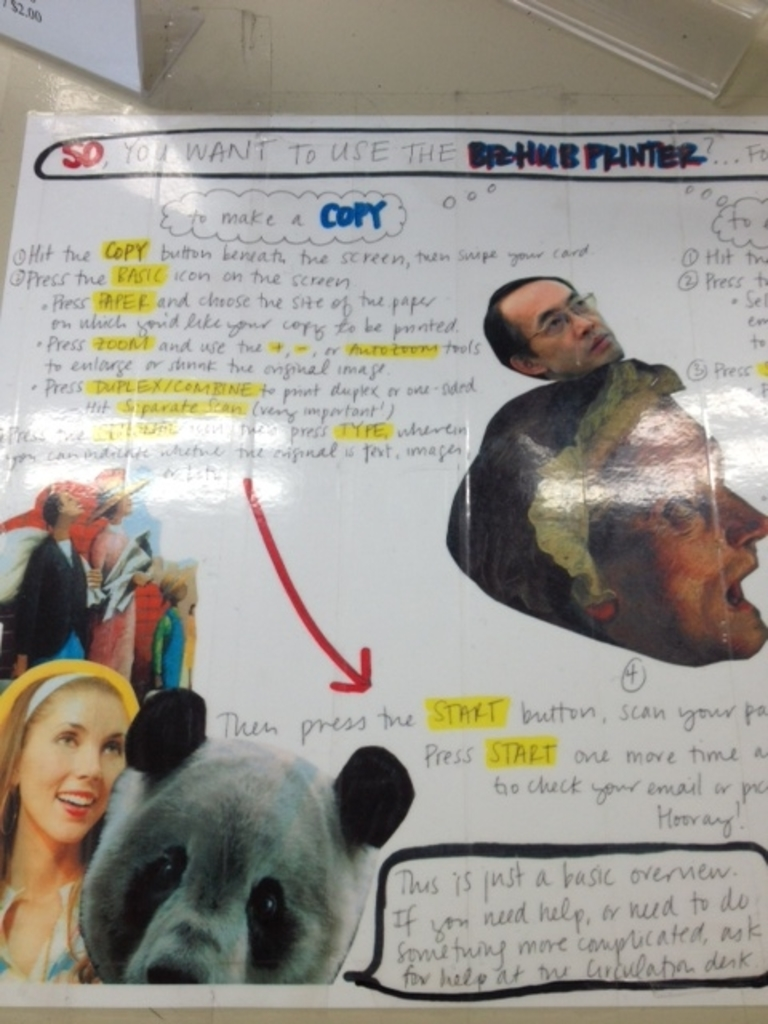Animal: (73, 690, 415, 988)
